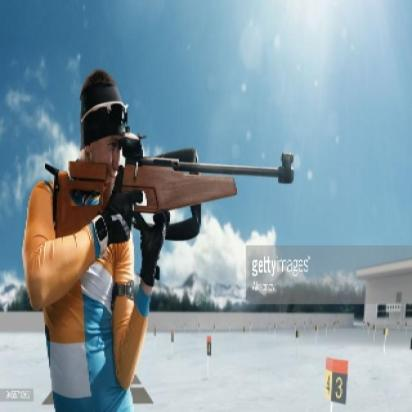Gun: (48, 144, 302, 246)
